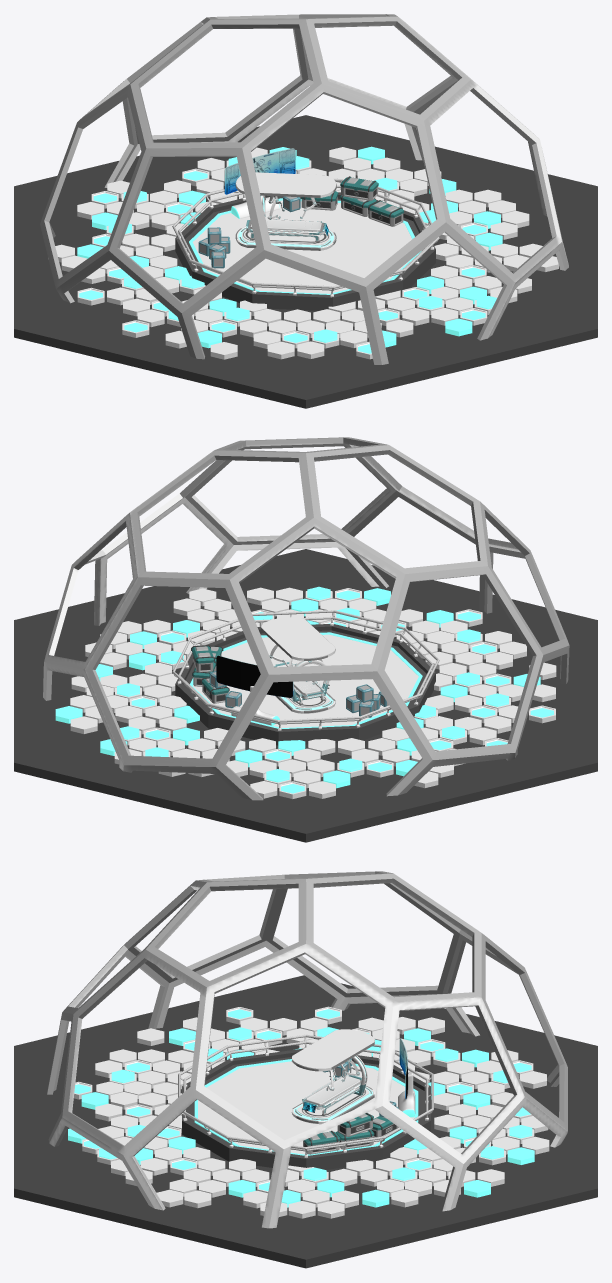
The picture shows the model from 3 angles, top to bottom: view 1: azimuth 30°, elevation 25°; view 2: azimuth 150°, elevation 25°; view 3: azimuth 270°, elevation 25°; orthographic projection.
Visible parts, largest first — view 1: BG, robot_table_upper, screen, robot_table_floor, robot_table, box_9, box_3; view 2: BG, robot_table_upper, screen, robot_table_floor, robot_table, box_9; view 3: BG, robot_table_upper, robot_table, robot_table_floor, screen, box_9, box_3.
Boxes of the visible parts, x1,y1,x2,y2 form: BG: (14, 14, 597, 408); robot_table_upper: (235, 172, 336, 197); screen: (224, 148, 295, 218); robot_table_floor: (235, 226, 336, 250); robot_table: (246, 219, 328, 242); box_9: (340, 176, 378, 200); box_3: (367, 200, 403, 226); BG: (14, 437, 597, 842); robot_table_upper: (261, 617, 335, 660); screen: (216, 655, 293, 725); robot_table_floor: (275, 692, 335, 713); robot_table: (274, 662, 325, 705); box_9: (191, 645, 214, 672); BG: (14, 871, 597, 1268); robot_table_upper: (291, 1029, 374, 1071); robot_table: (302, 1075, 364, 1115); robot_table_floor: (291, 1086, 374, 1124); screen: (398, 1038, 415, 1117); box_9: (337, 1113, 373, 1136); box_3: (303, 1130, 340, 1154).
Bounding box in the file's own units: 7547 × 3130 × 6536.
